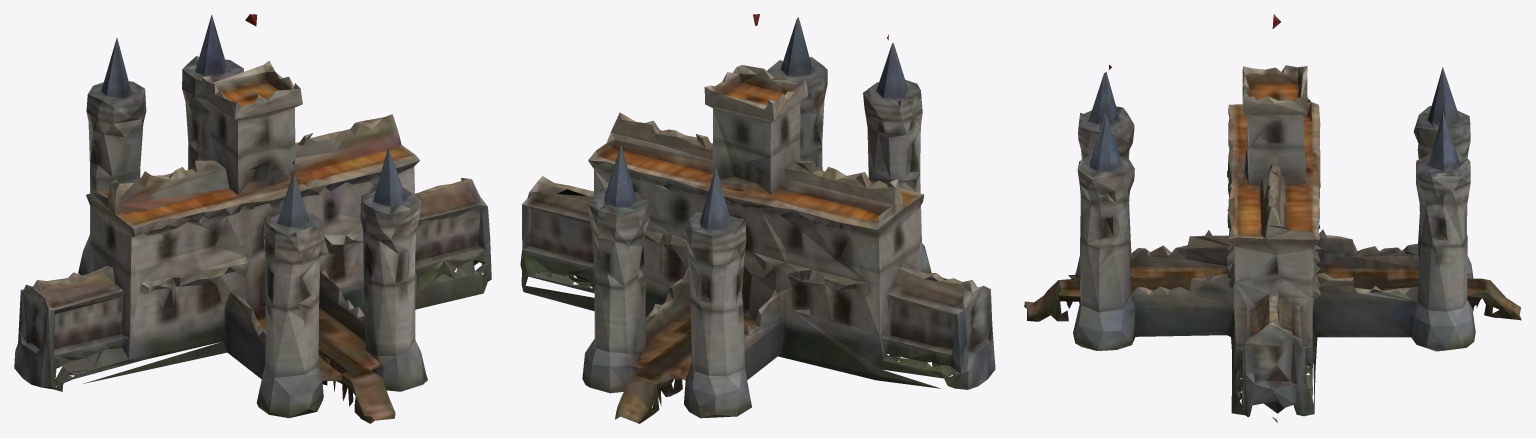
The model's file is castle_small_towers_lod1.glb.
The picture shows the model from 3 angles, left to right: view 1: azimuth 30°, elevation 25°; view 2: azimuth 150°, elevation 25°; view 3: azimuth 270°, elevation 25°; orthographic projection. The views are drawn at different scales.
Visible parts, largest first — view 1: castle_small_towers_lod1; view 2: castle_small_towers_lod1; view 3: castle_small_towers_lod1.
Part boxes in pixels (bbox=[...]): castle_small_towers_lod1: bbox=[14, 14, 491, 423]; castle_small_towers_lod1: bbox=[520, 14, 995, 423]; castle_small_towers_lod1: bbox=[1024, 14, 1521, 422].
Size of the model in its own units: 13.91 by 9.28 by 13.84.
Materials: 1 (1 with a texture image).
